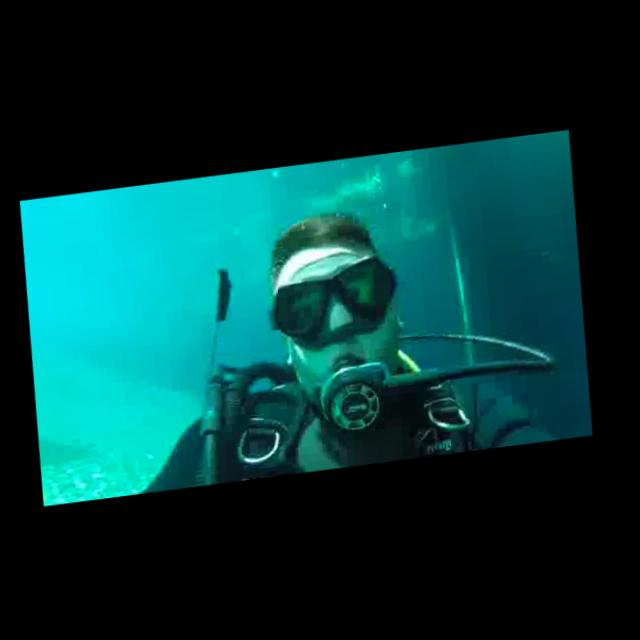human: (78, 185, 593, 498)
